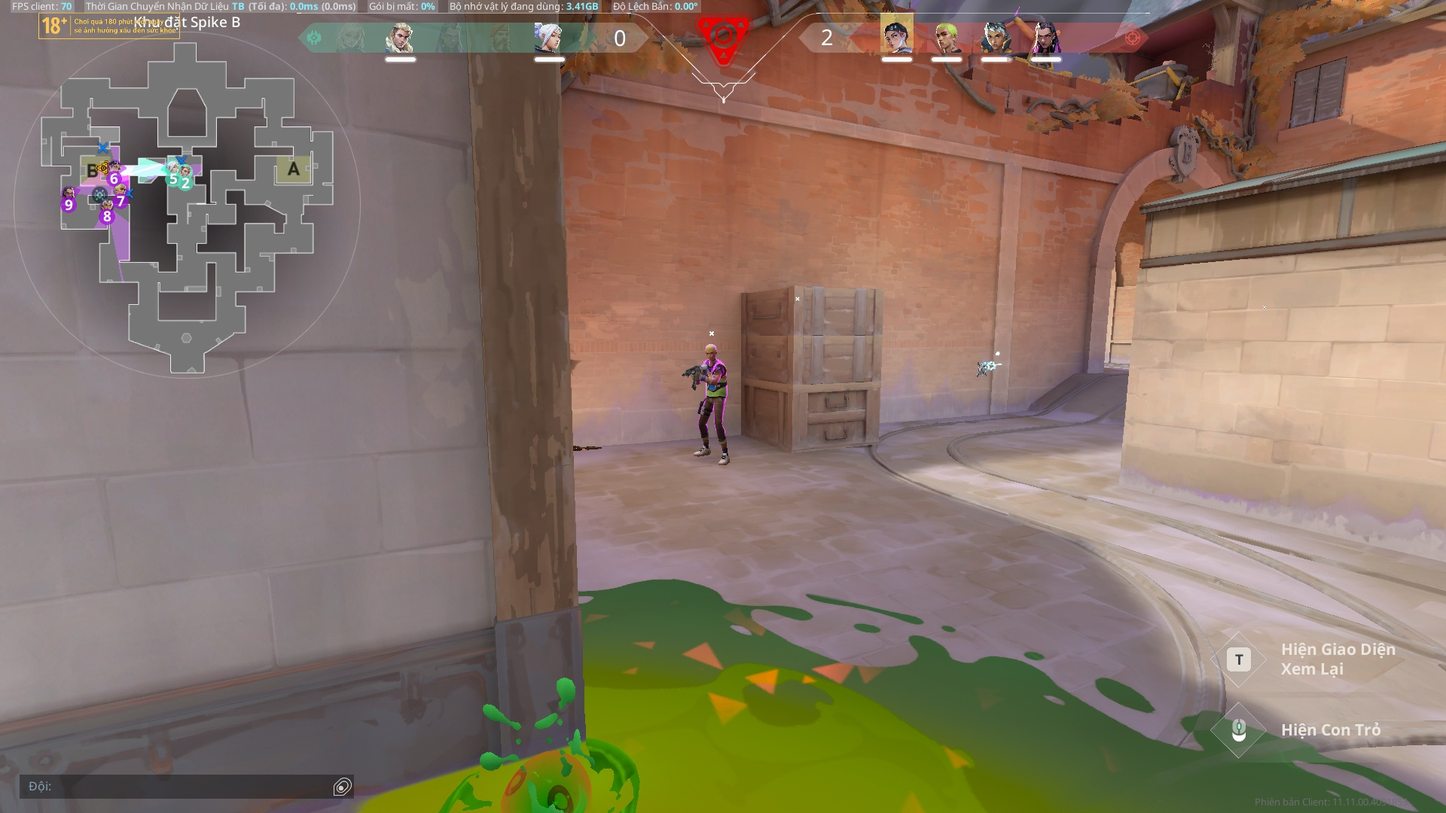body: (698, 356, 729, 396)
head: (705, 342, 717, 360)
